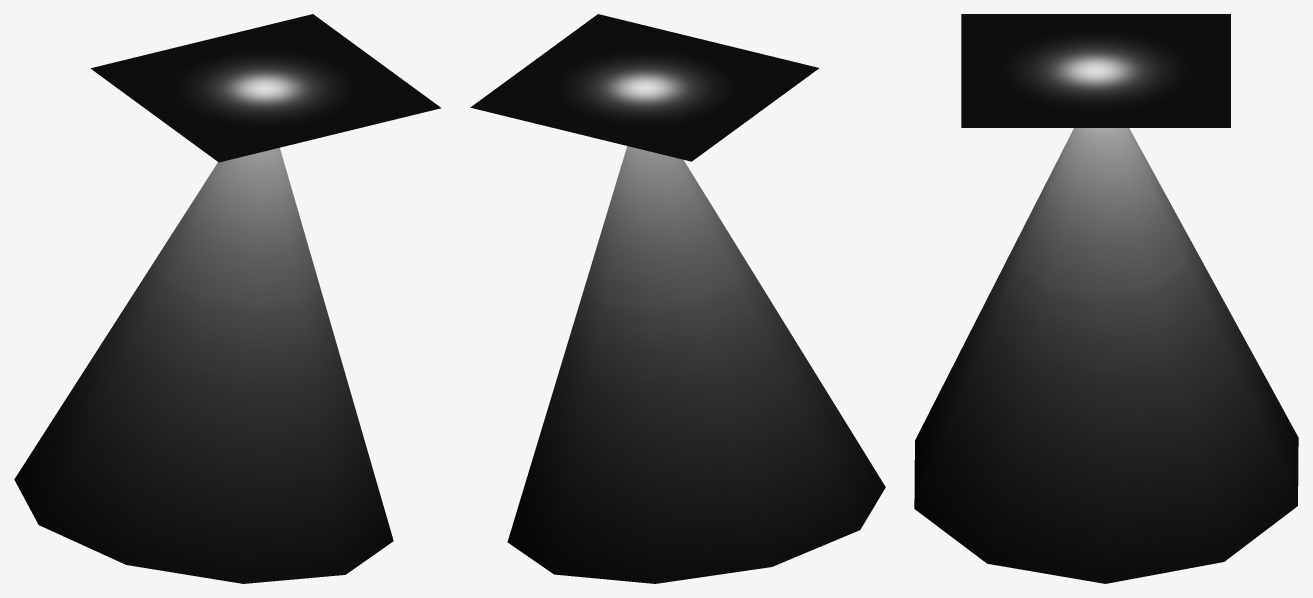
File: spotlight.obj
The picture shows the model from 3 angles, left to right: view 1: azimuth 30°, elevation 25°; view 2: azimuth 150°, elevation 25°; view 3: azimuth 270°, elevation 25°; orthographic projection. The views are drawn at different scales.
Visible parts, largest first — view 1: lightcone.001, lightglow; view 2: lightcone.001, lightglow; view 3: lightcone.001, lightglow.
Part boxes in pixels (left/top/right/bottom): lightcone.001: left=14, top=147, right=393, bottom=583; lightglow: left=90, top=14, right=441, bottom=162; lightcone.001: left=507, top=146, right=885, bottom=583; lightglow: left=470, top=14, right=819, bottom=161; lightcone.001: left=914, top=128, right=1298, bottom=583; lightglow: left=961, top=14, right=1230, bottom=127.
Size of the model in its own units: 2.62 by 3.28 by 2.5.
1 material, 1 textured.
